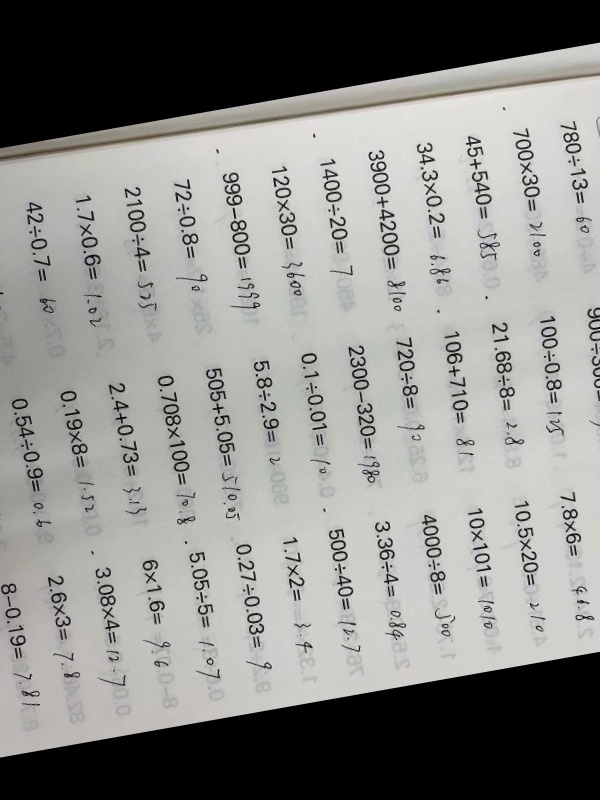equation: (369, 146, 408, 313), (410, 138, 454, 286), (158, 370, 199, 526), (552, 486, 596, 631), (220, 168, 264, 311), (206, 363, 245, 522), (182, 536, 222, 681), (344, 341, 383, 485), (107, 378, 146, 516), (229, 541, 269, 674), (73, 191, 110, 328), (269, 162, 306, 299), (162, 177, 205, 294), (87, 564, 127, 689), (512, 499, 548, 635), (0, 578, 37, 710), (465, 130, 502, 262), (515, 124, 550, 258), (326, 524, 362, 654), (16, 392, 50, 529), (420, 510, 455, 640), (489, 318, 524, 448), (371, 516, 407, 641), (299, 348, 334, 476), (386, 334, 426, 446), (277, 534, 314, 655), (124, 182, 158, 313), (442, 327, 476, 458), (316, 156, 352, 278), (136, 554, 172, 676), (64, 385, 97, 514), (535, 312, 569, 437), (466, 505, 499, 631), (42, 573, 78, 682), (24, 197, 57, 315), (562, 117, 595, 235), (571, 304, 600, 430), (252, 356, 284, 466), (0, 207, 9, 323)
